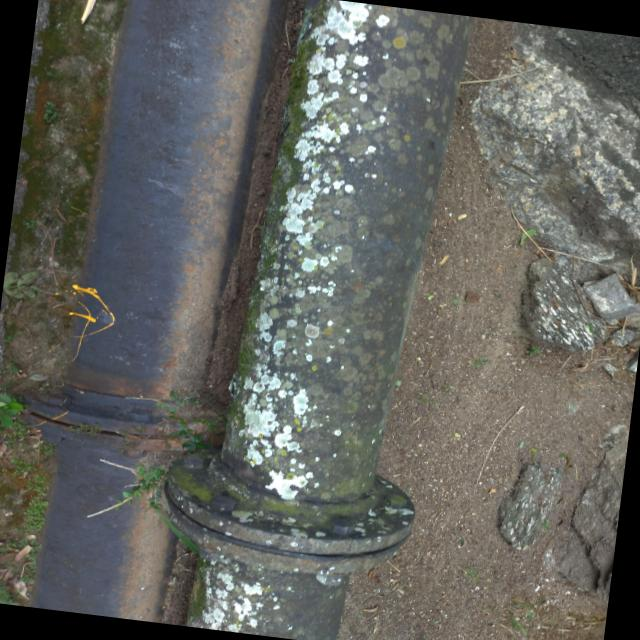gas: (187, 0, 468, 640), (30, 0, 279, 623)
